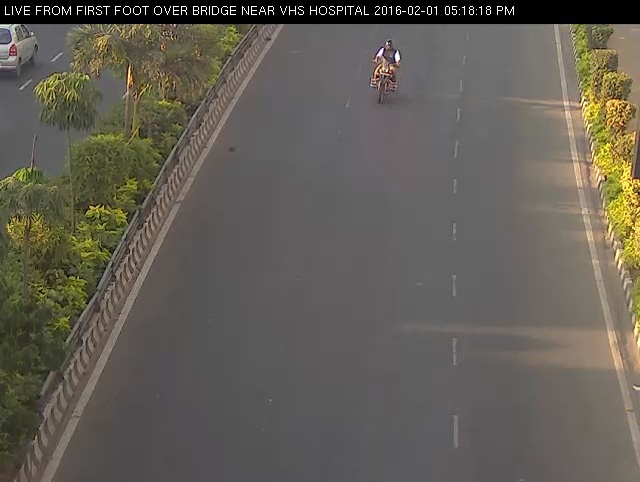Person: (362, 32, 409, 109)
